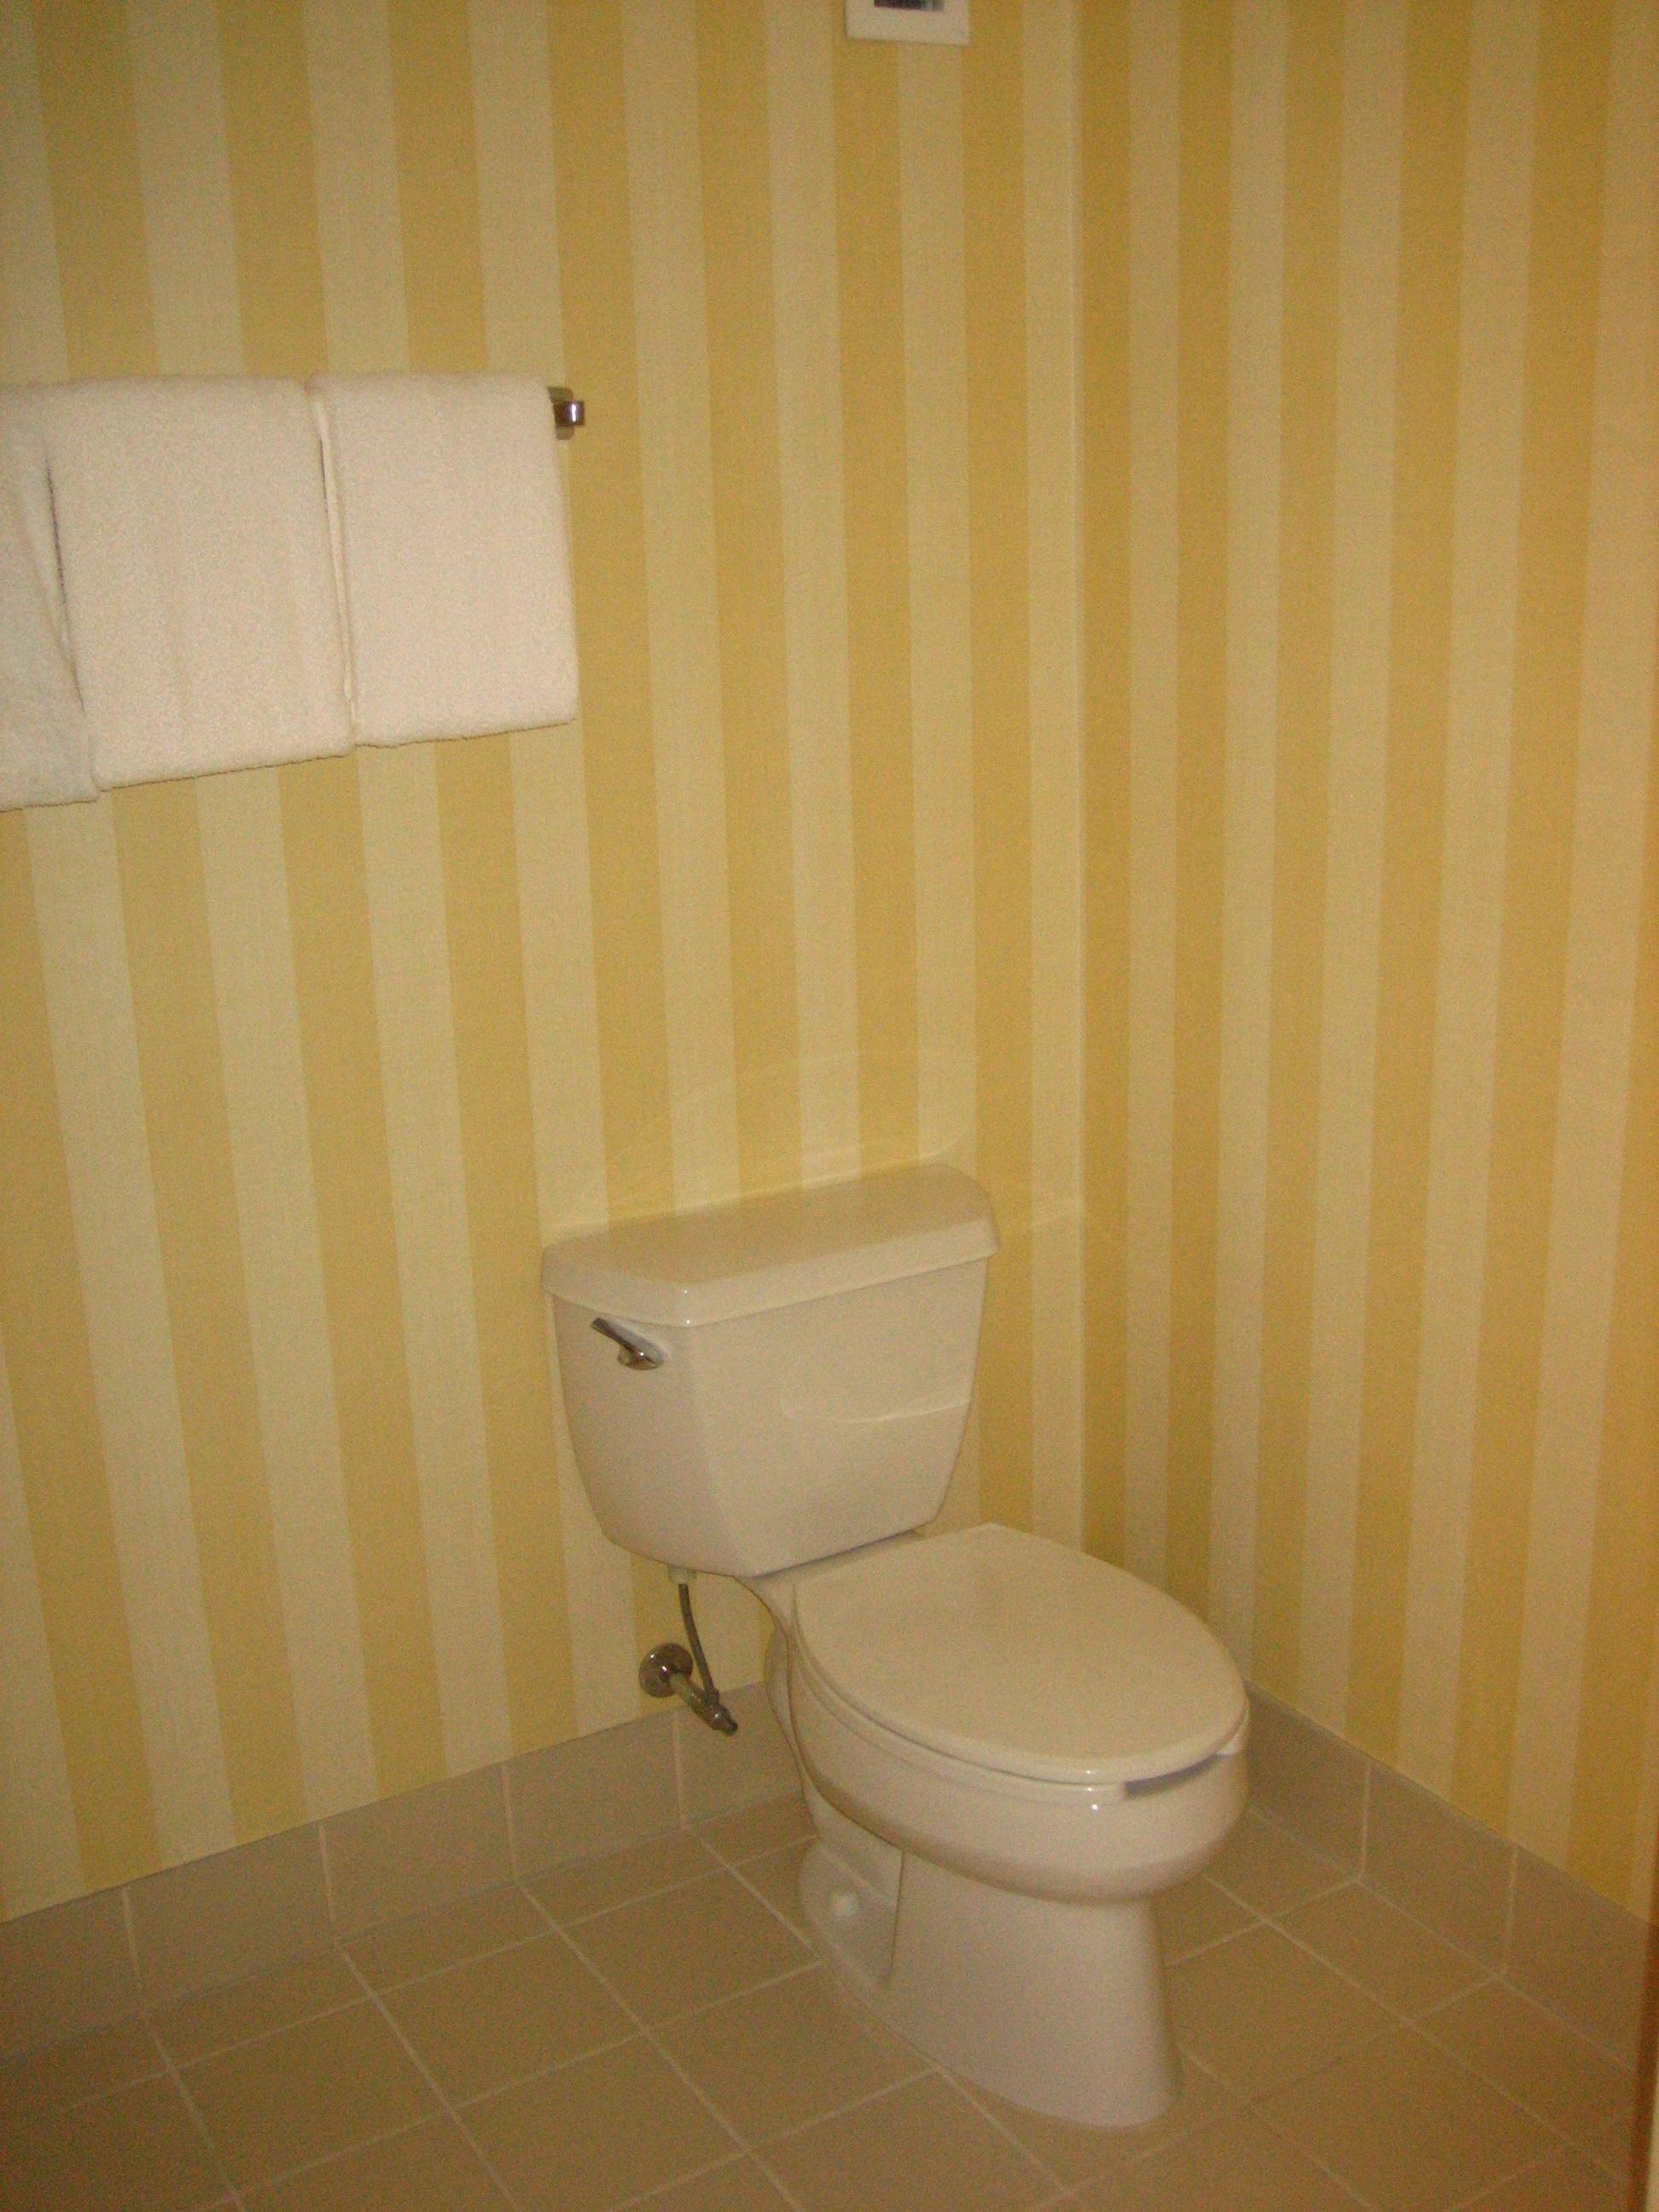Sanitario: (525, 1160, 1323, 2158)
